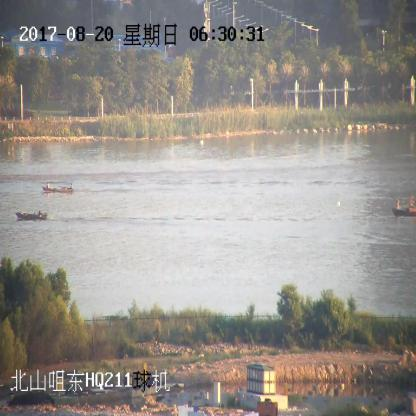Fishing Boat: (392, 197, 416, 216), (42, 181, 73, 194), (17, 210, 48, 220)
